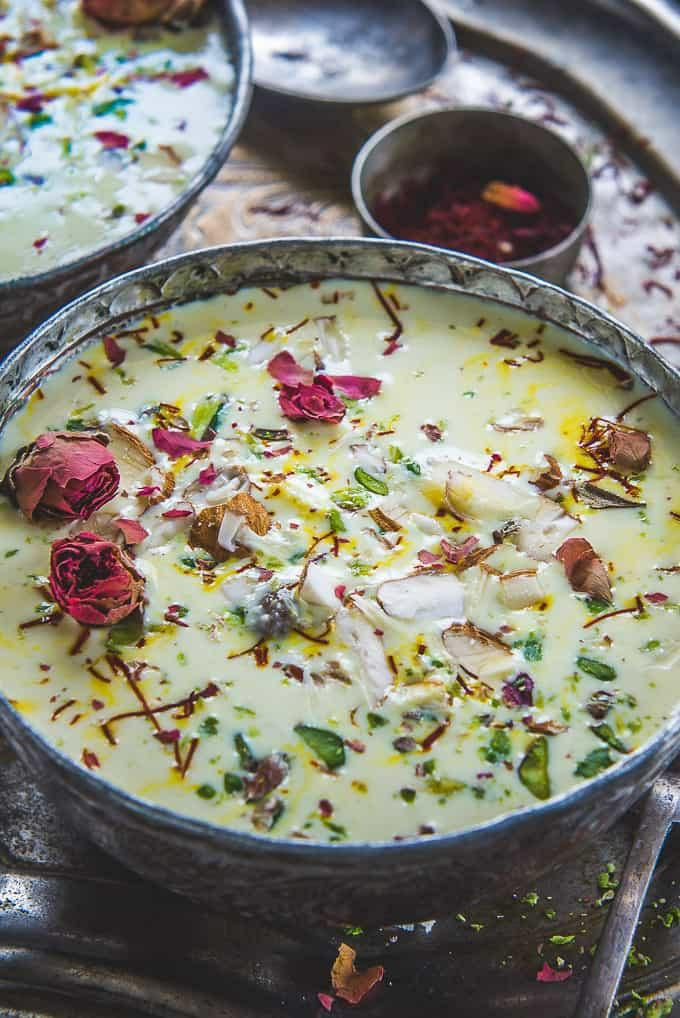Kheer: (0, 275, 680, 833), (0, 0, 235, 279)
